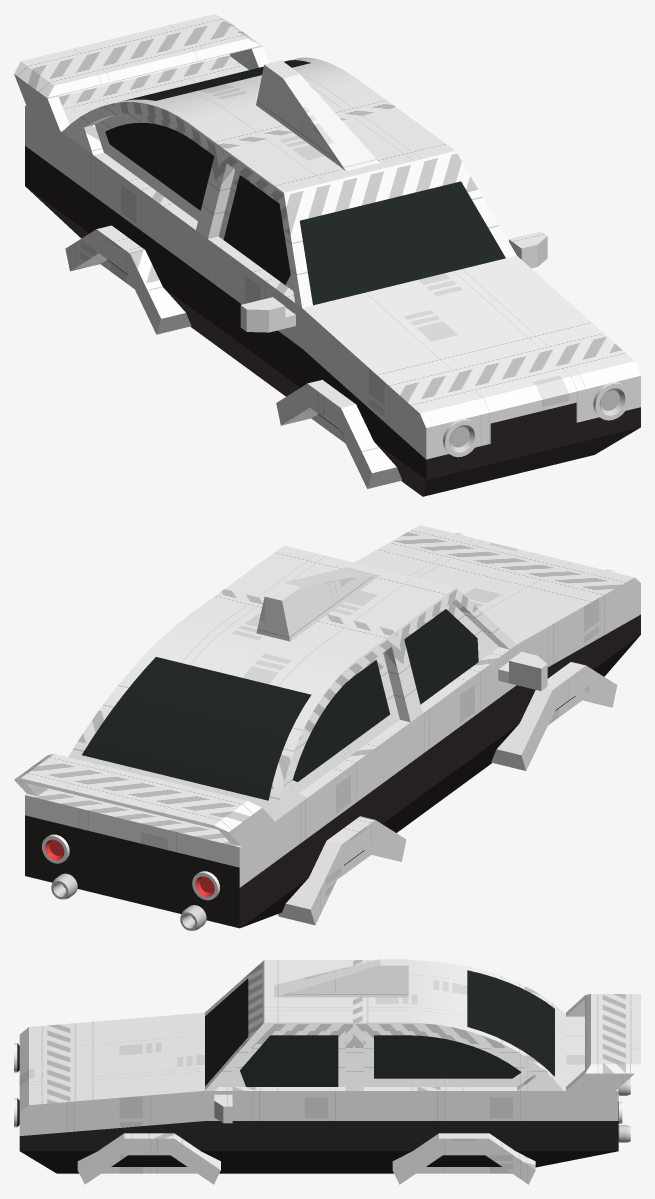
The model's file is PlayerCar.fbx.
3 renders of one model, top to bottom at view 1: azimuth 30°, elevation 25°; view 2: azimuth 150°, elevation 25°; view 3: azimuth 270°, elevation 25°, orthographic. The views are drawn at different scales.
Parts seen in each view (by area): view 1: mergedBlocks; view 2: mergedBlocks; view 3: mergedBlocks.
Part boxes in pixels (<box>): mergedBlocks: <box>14,14,640,496</box>; mergedBlocks: <box>14,525,640,930</box>; mergedBlocks: <box>14,959,640,1184</box>.
Size of the model in its own units: 140 by 107 by 339.
6 materials, 2 textured.
